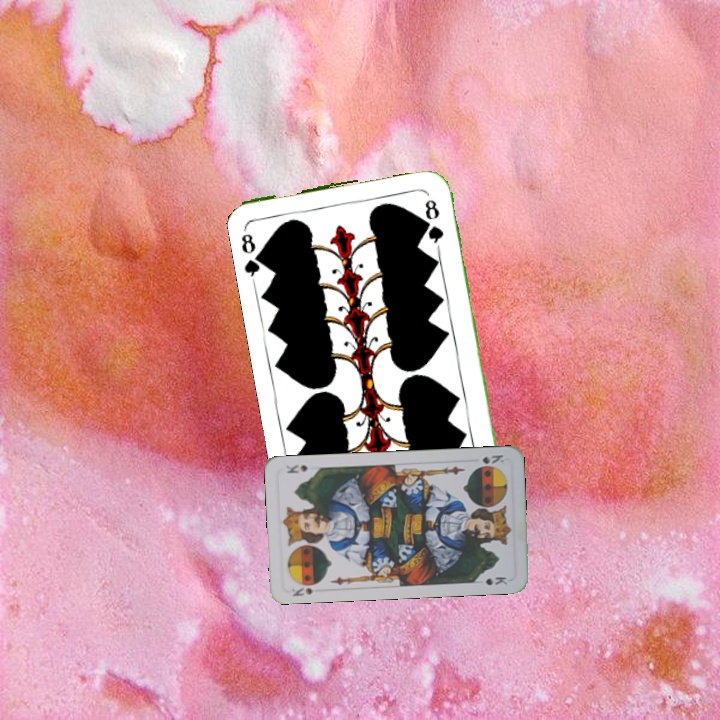G8: (237, 223, 269, 282)
SK: (288, 583, 316, 599), (478, 451, 506, 466)
